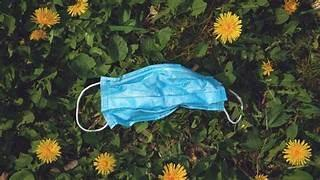Mask: (76, 64, 240, 131)
